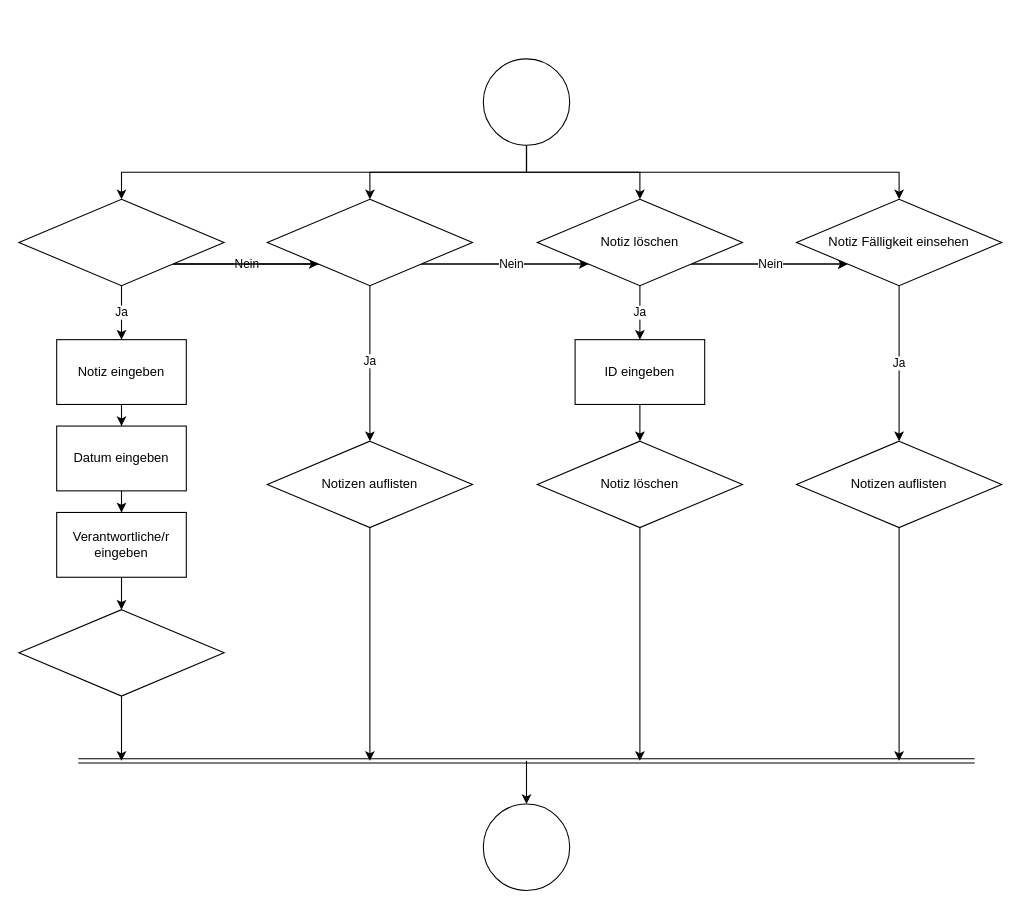
Image size: 1021x909. Some labels were removed from this diagram. Each missing label, with the box of its shape:
End: (482, 803, 570, 890)
Notiz einsehen: (266, 198, 473, 286)
Notiz erfassen: (18, 198, 224, 286)
Notiz speichern: (18, 609, 224, 696)
Start: (482, 58, 570, 145)
